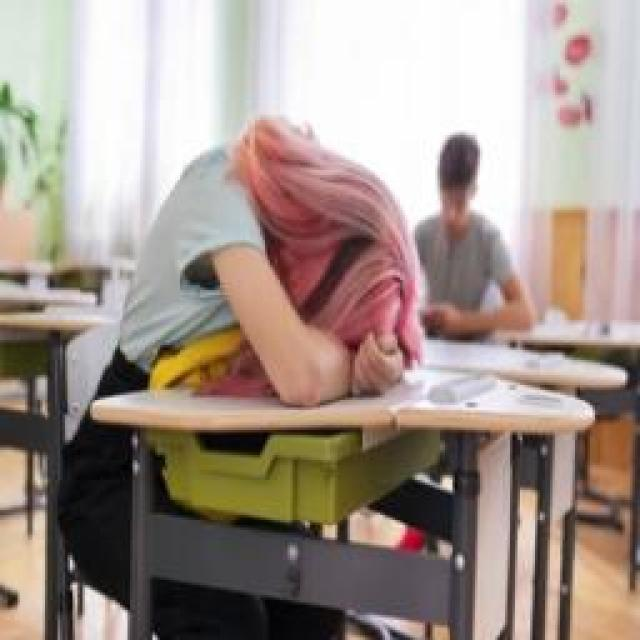phone: (415, 132, 537, 340)
sleep: (115, 115, 417, 403)
